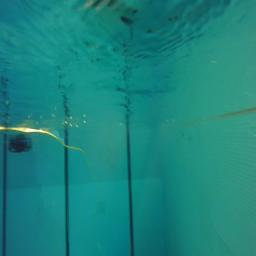Side: (8, 135, 32, 153)
